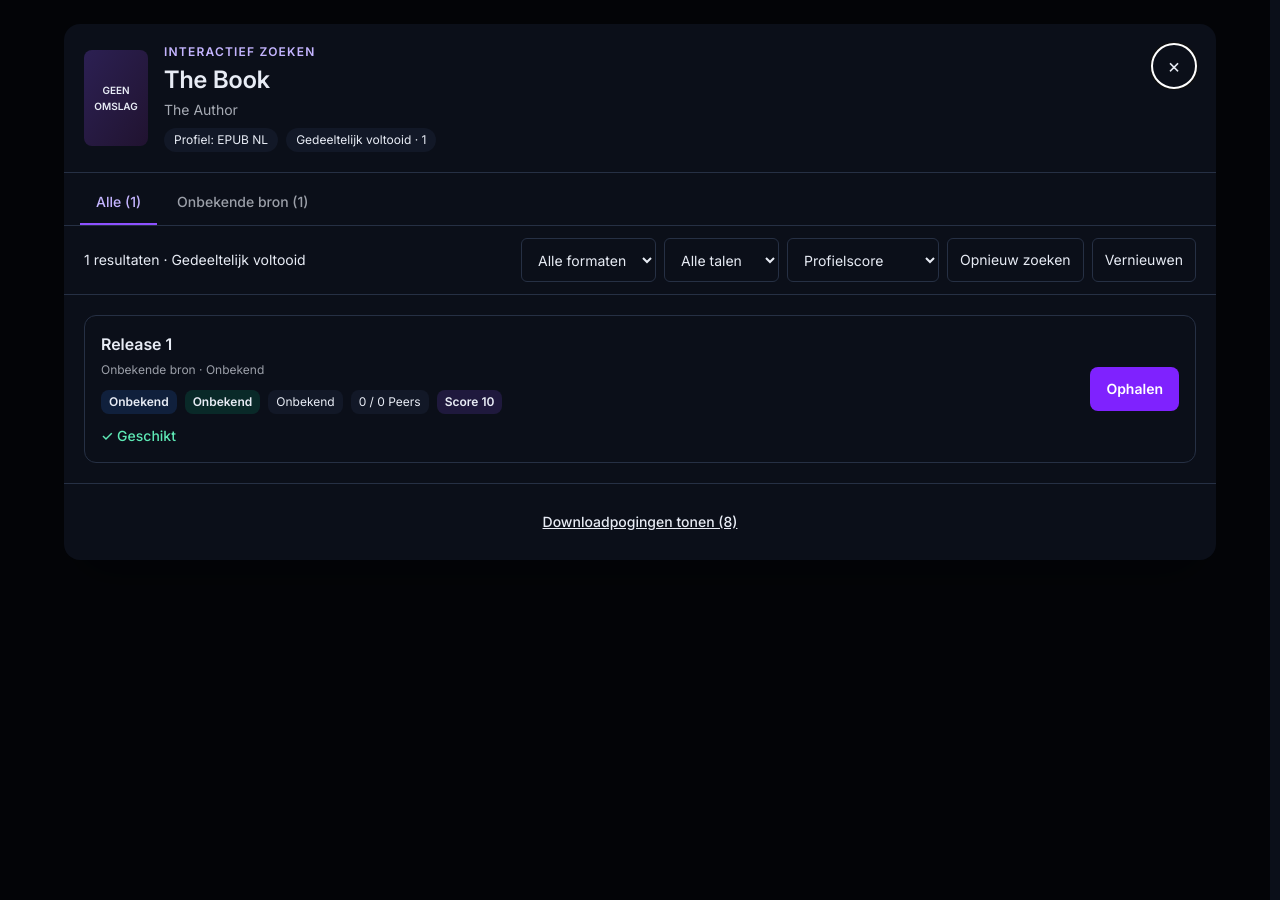
InteractiveSearchModal › localizes candidate fallbacks and every backend attempt state in Dutch
Expected: the text "Gedeeltelijk voltooid · 1" is shown, x1=286 y1=128 x2=436 y2=152
Expected: the tab "Onbekende bron (1)" is shown, x1=161 y1=181 x2=324 y2=225
Click the button "Downloadpogingen tonen (8)" at (640, 522), box x1=542 y1=500 x2=737 y2=544
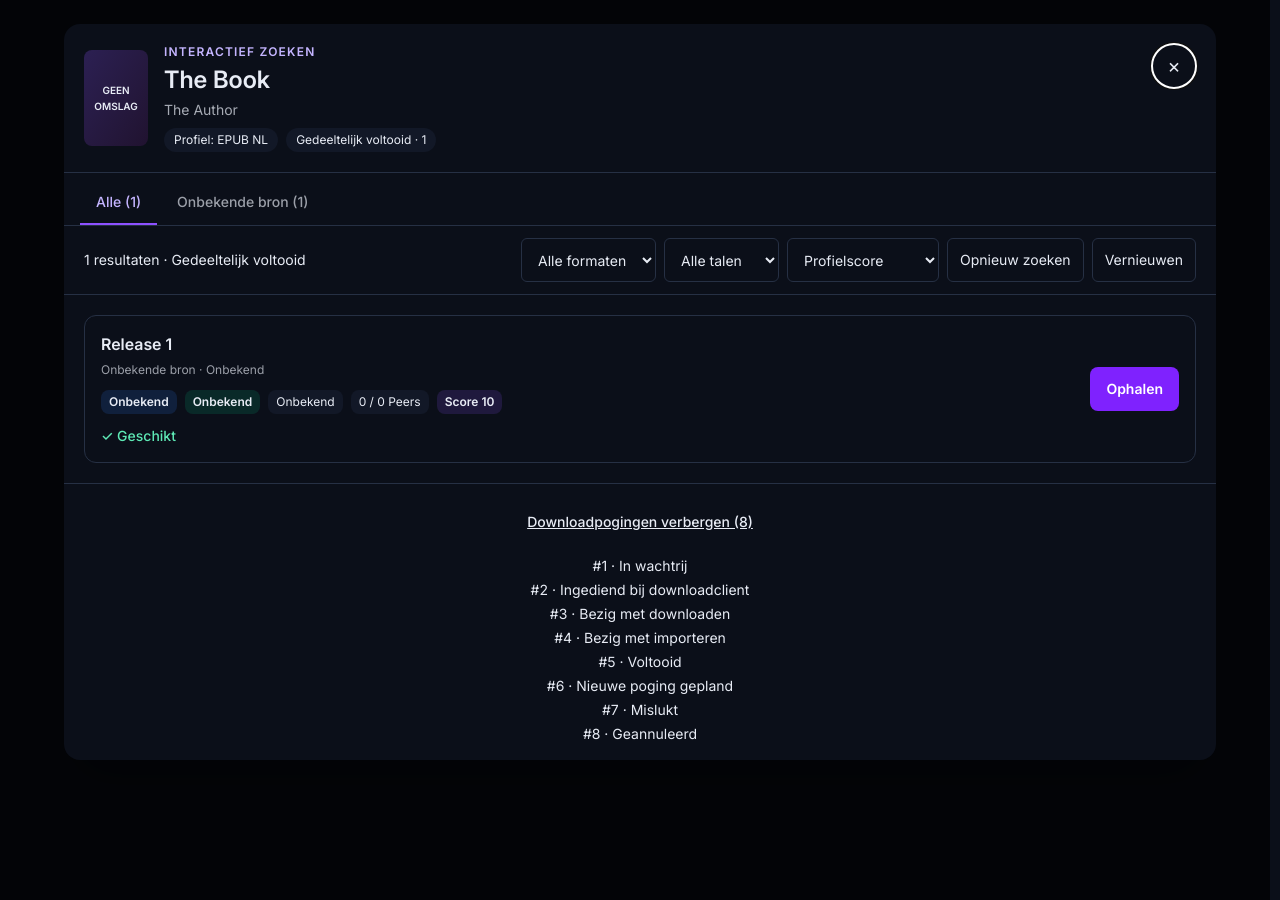
Result: the text "#1 · In wachtrij" is shown at x1=593 y1=557 x2=687 y2=574
Result: the text "#2 · Ingediend bij downloadclient" is shown at x1=530 y1=581 x2=749 y2=598
Result: the text "#3 · Bezig met downloaden" is shown at x1=550 y1=605 x2=730 y2=622
